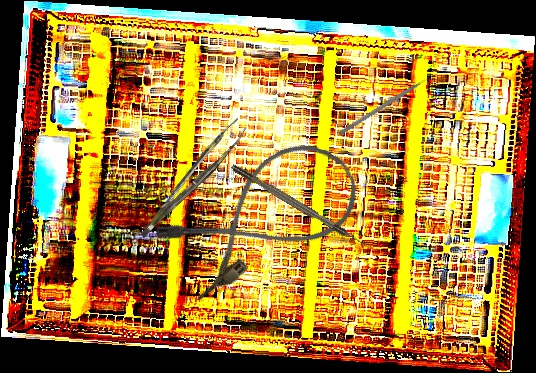Cannula: (150, 125, 372, 308)
Chopper: (337, 73, 438, 141)
Hook Surgical: (230, 162, 372, 252)
Tissue Forceps: (127, 117, 254, 239)
